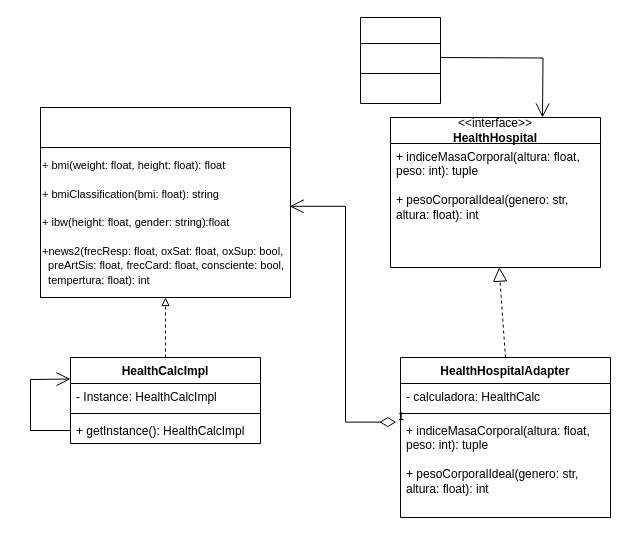
The diagram is 628 pixels wide and 538 high, and some of its shapes have lost their labels. The shapes that lost their labels are listed below. From the top down, each one's centre as x and y in pixels, then its label:
At pixel 400 60: "Main".
At pixel 165 127: "«interface» HealthCalc".
